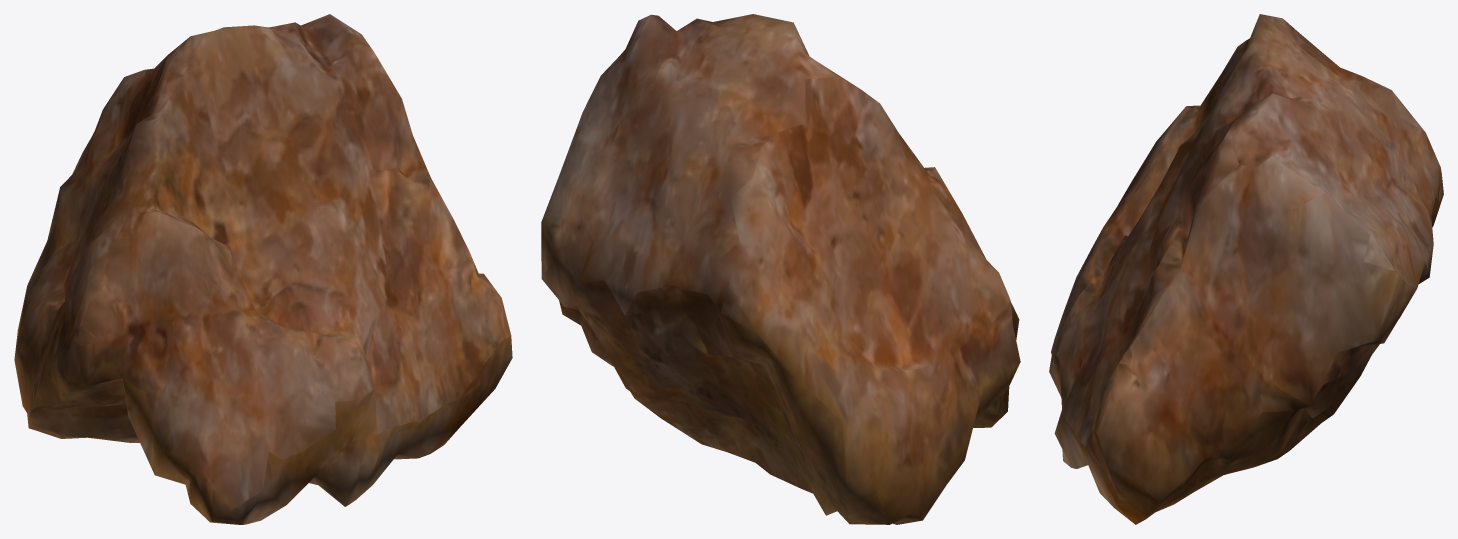
The model's file is namaqualand_stones_01_hi.glb.
The picture shows the model from 3 angles, left to right: view 1: azimuth 30°, elevation 25°; view 2: azimuth 150°, elevation 25°; view 3: azimuth 270°, elevation 25°; orthographic projection. The views are drawn at different scales.
Visible parts, largest first — view 1: namaqualand_stones_01_hi; view 2: namaqualand_stones_01_hi; view 3: namaqualand_stones_01_hi.
Part boxes in pixels (x1,y1,x2,y2): namaqualand_stones_01_hi: (14,14,512,524); namaqualand_stones_01_hi: (541,14,1020,524); namaqualand_stones_01_hi: (1049,14,1443,524).
Size of the model in its own units: 0.9997 by 0.9927 by 0.8233.
Materials: 1 (1 with a texture image).
